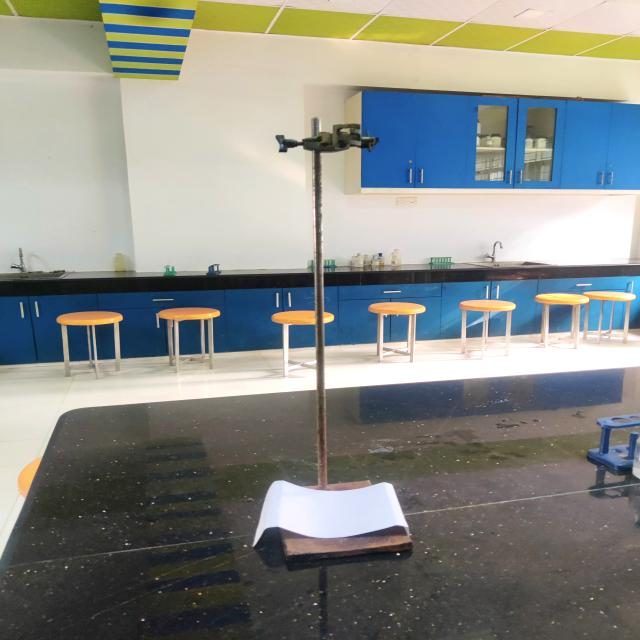Burette_Stands: (220, 101, 446, 595)
